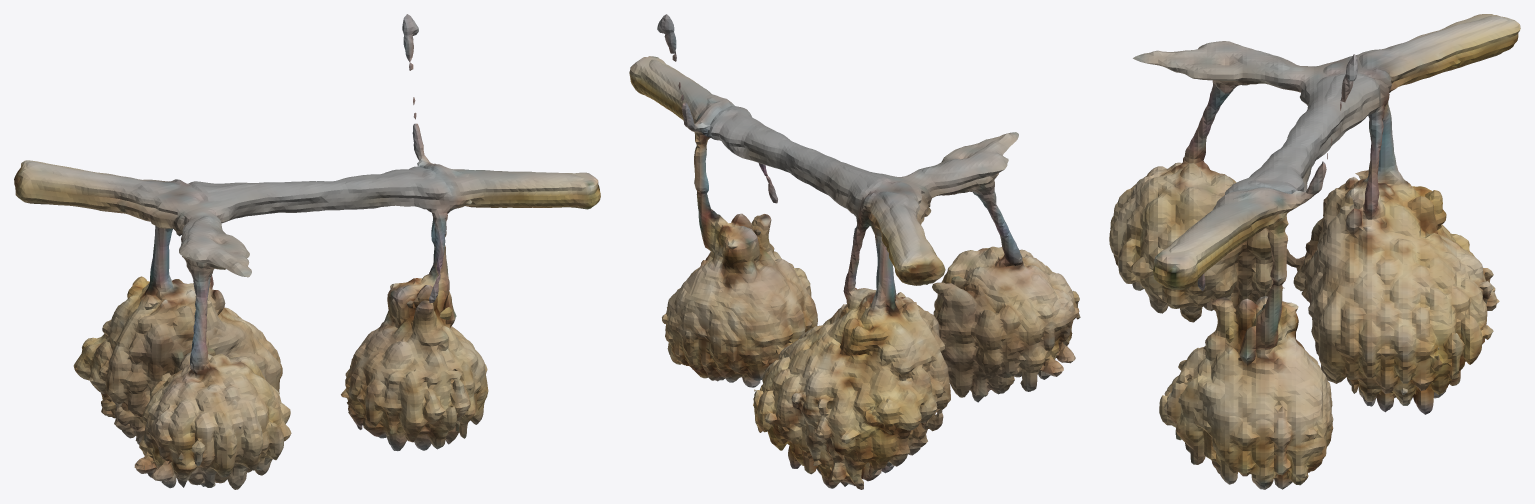
The model's file is jawabarat.glb.
3 renders of one model, left to right at view 1: azimuth 30°, elevation 25°; view 2: azimuth 150°, elevation 25°; view 3: azimuth 270°, elevation 25°, orthographic. The views are drawn at different scales.
Visible parts, largest first — view 1: world; view 2: world; view 3: world.
Part boxes in pixels (left/top/right/bottom): world: left=14, top=14, right=600, bottom=489; world: left=629, top=14, right=1080, bottom=489; world: left=1109, top=14, right=1520, bottom=489.
Size of the model in its own units: 0.8969 by 0.7781 by 0.6296.
